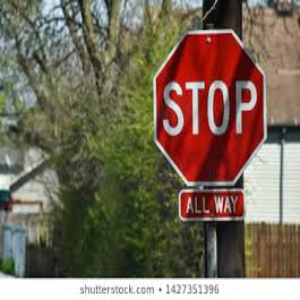STOP_SIGN: (153, 30, 266, 185)
